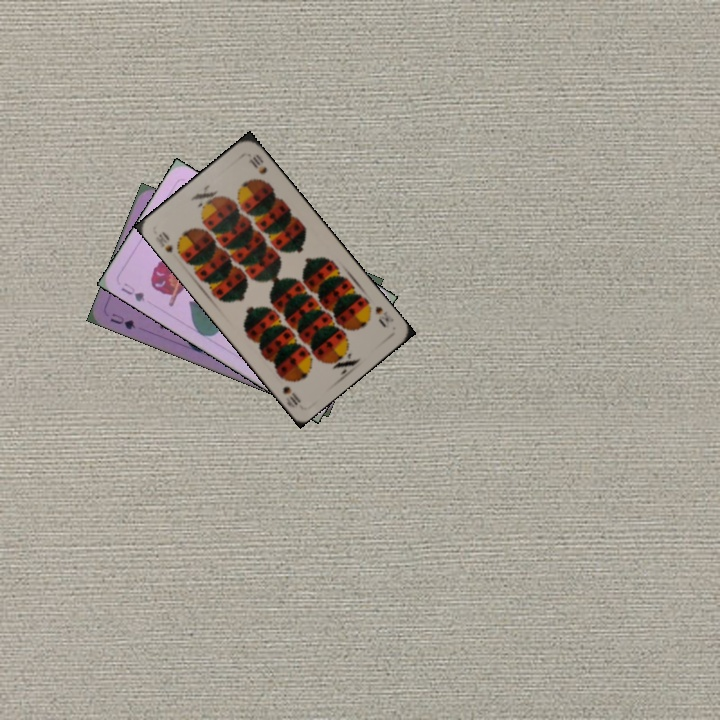GU: (117, 279, 147, 304), (106, 309, 138, 332)
S10: (151, 227, 185, 259), (371, 302, 396, 325)
